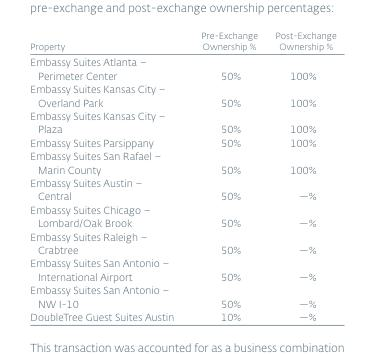table: (29, 28, 335, 322)
table column: (29, 28, 186, 322), (186, 28, 265, 322), (265, 28, 335, 322)
table column header: (29, 28, 335, 53)
table row: (29, 53, 335, 81), (29, 81, 335, 108), (29, 108, 335, 135), (29, 148, 335, 175), (29, 175, 335, 202), (29, 202, 335, 229), (29, 255, 335, 282), (29, 282, 335, 309), (29, 229, 335, 255), (29, 28, 335, 53), (29, 135, 335, 148), (29, 309, 335, 322)
